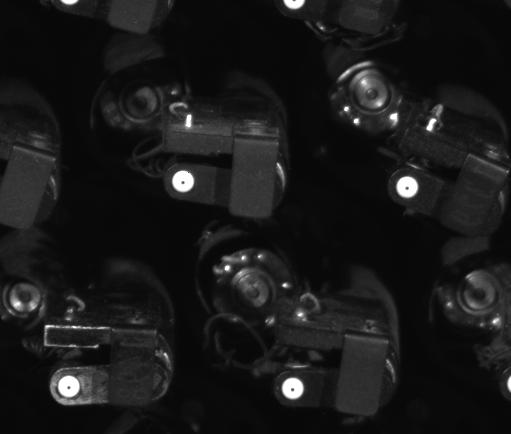fiber: (168, 167, 202, 197), (278, 373, 309, 404), (392, 172, 423, 201), (53, 373, 83, 402), (275, 1, 314, 16)
